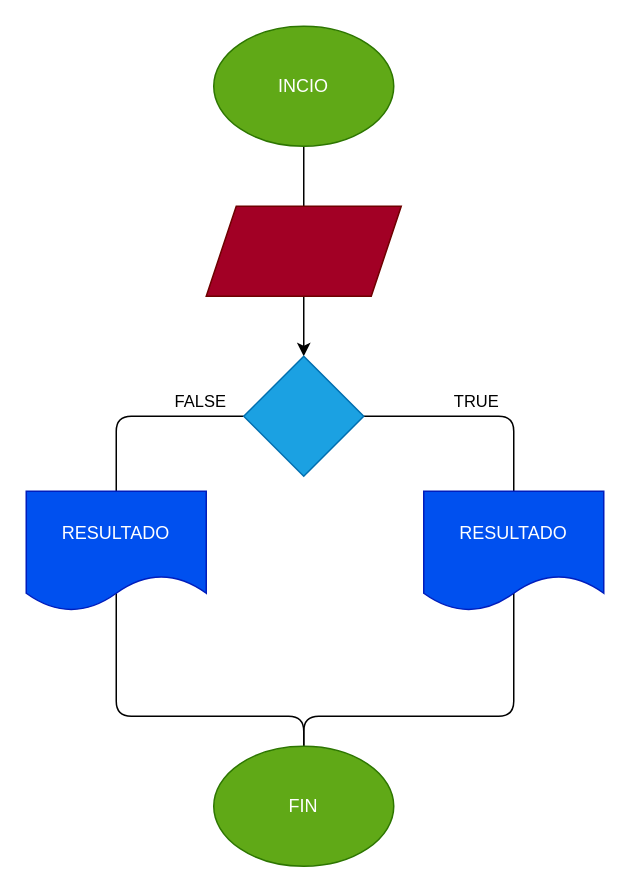
This 630x893 diagram has some shape labels left out. Each missing label, with the box of its shape:
A + B = C: (242, 355, 364, 476)
A , B , C: (205, 205, 401, 296)
